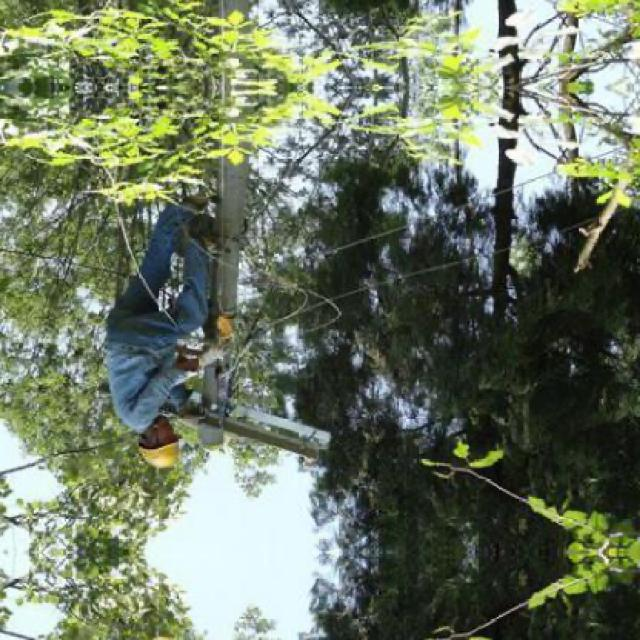con casco: (114, 408, 210, 494)
